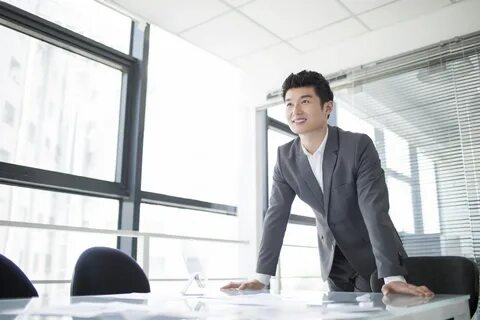awake: (250, 69, 408, 295)
